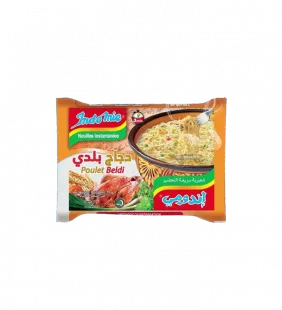INDOMIE: (44, 91, 236, 229)
